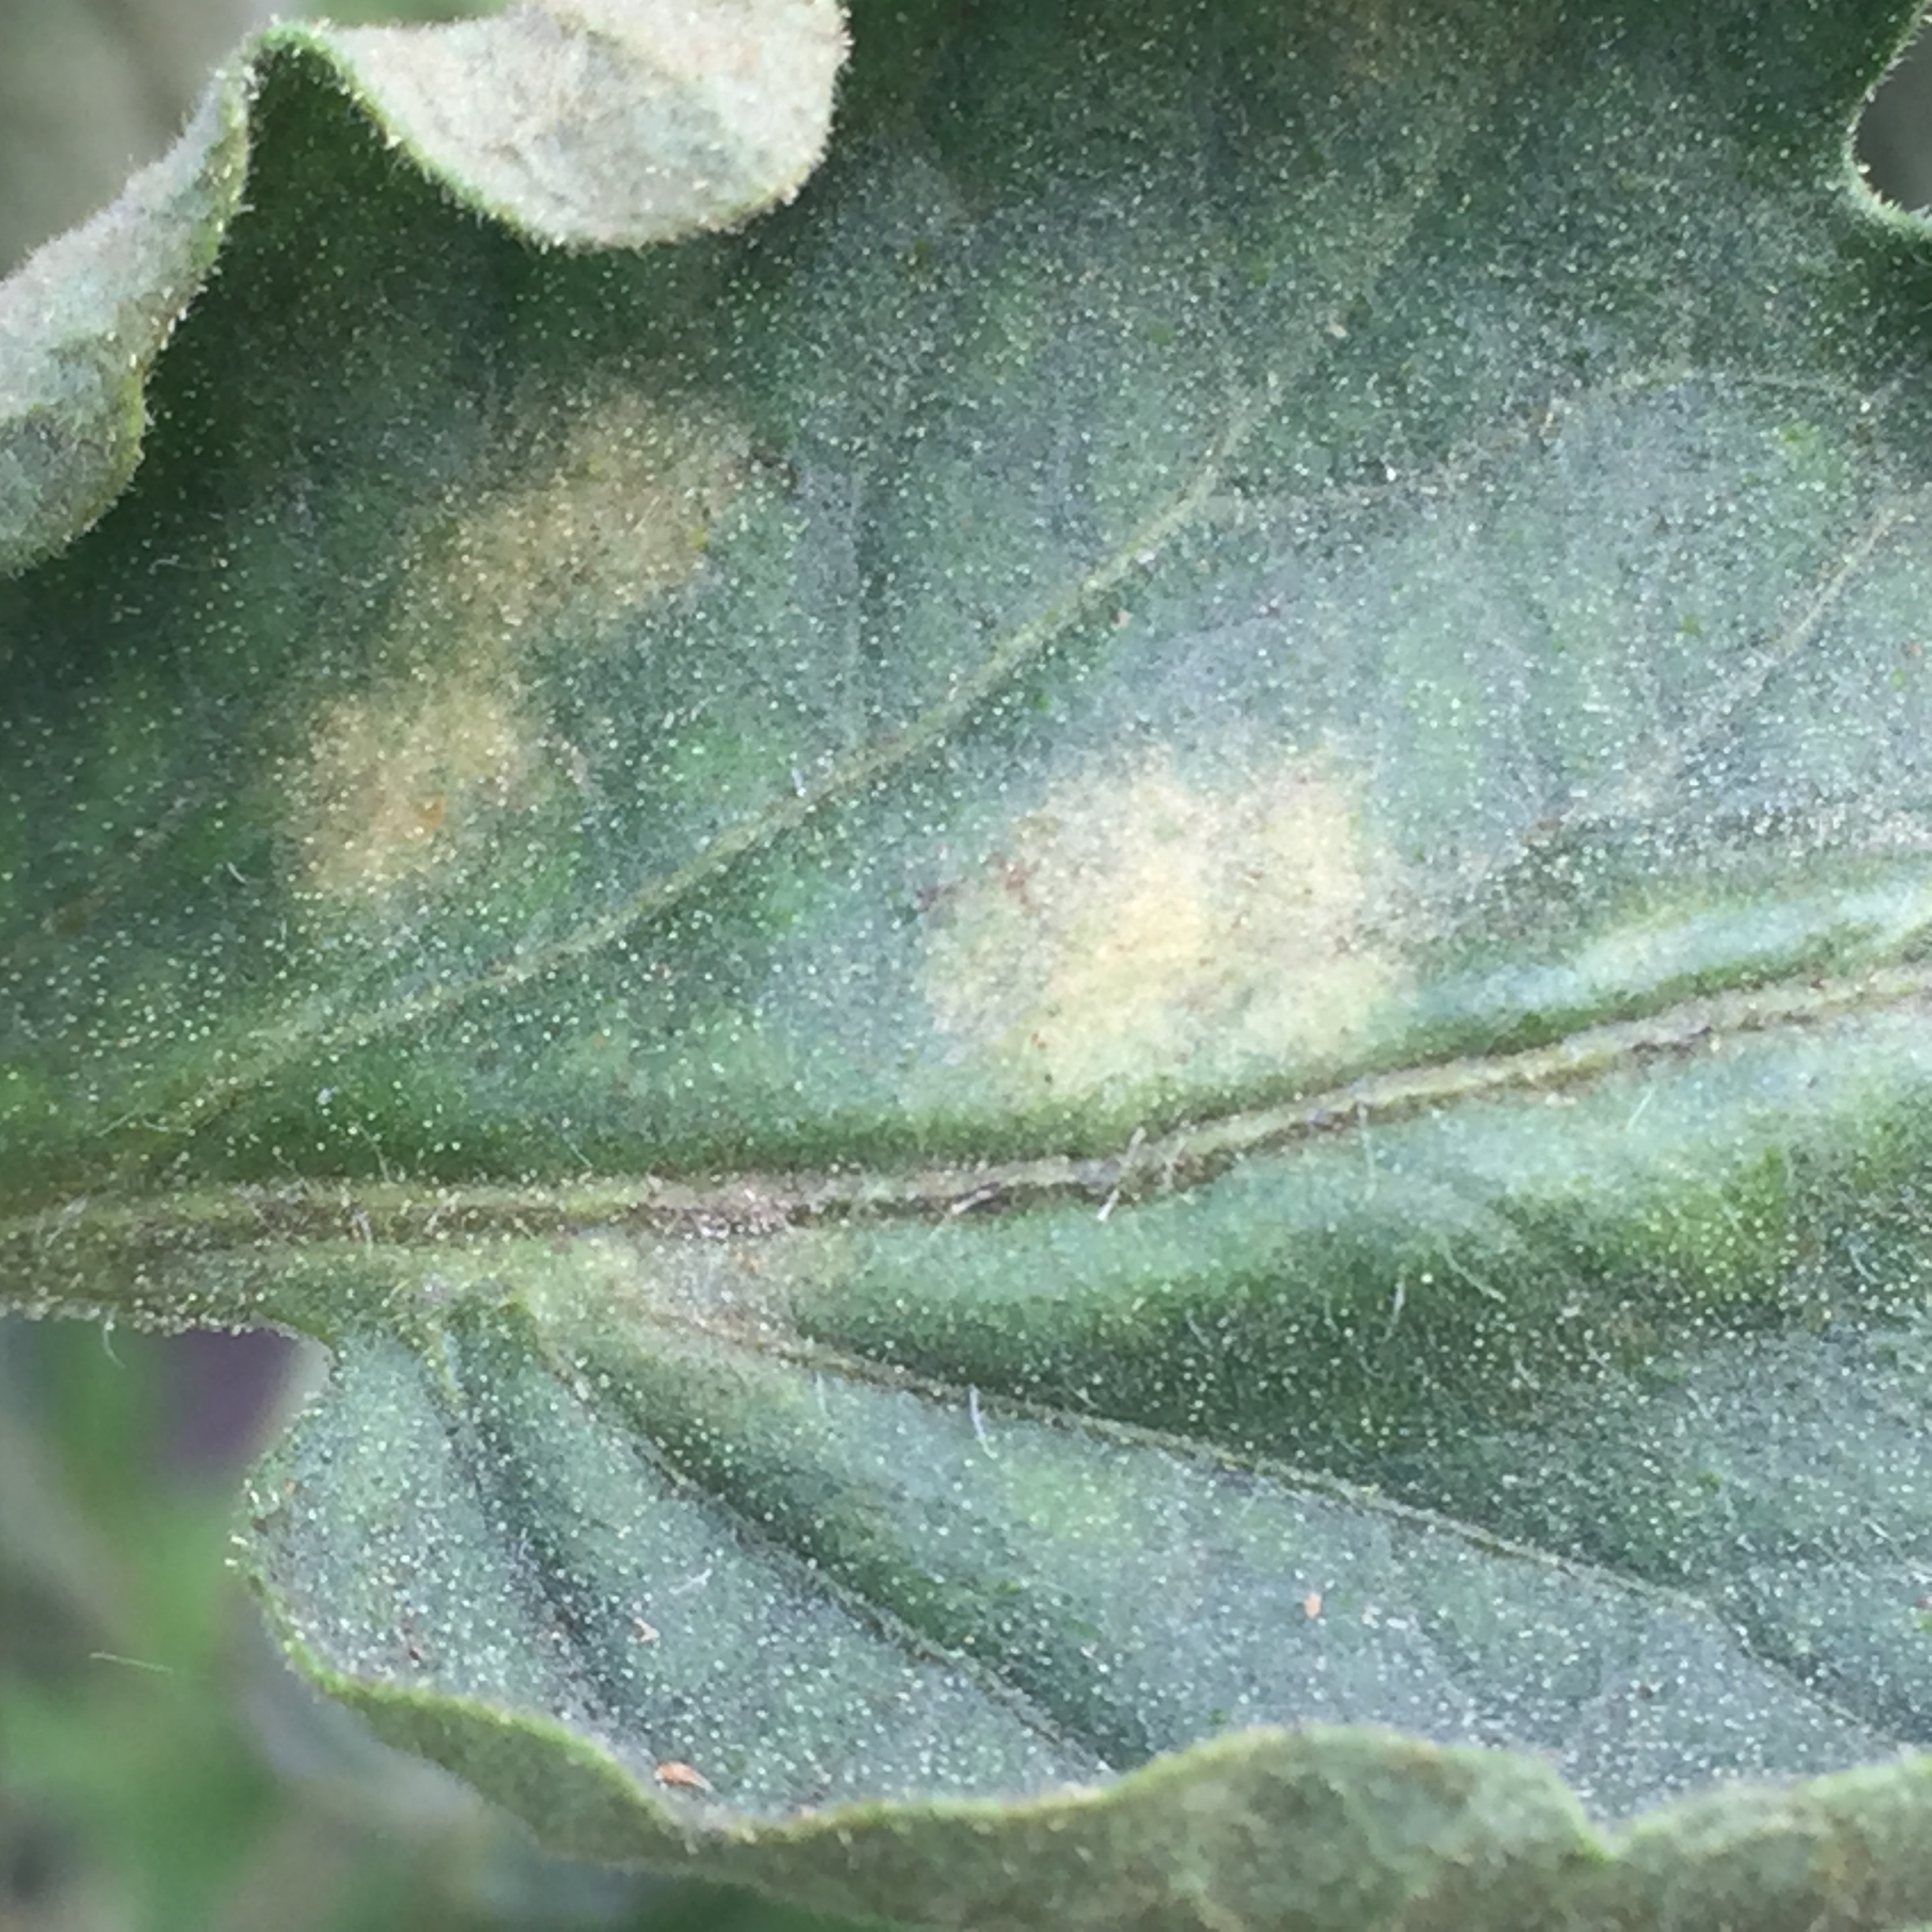blanca: (203, 343, 832, 993), (768, 685, 1504, 1164)
